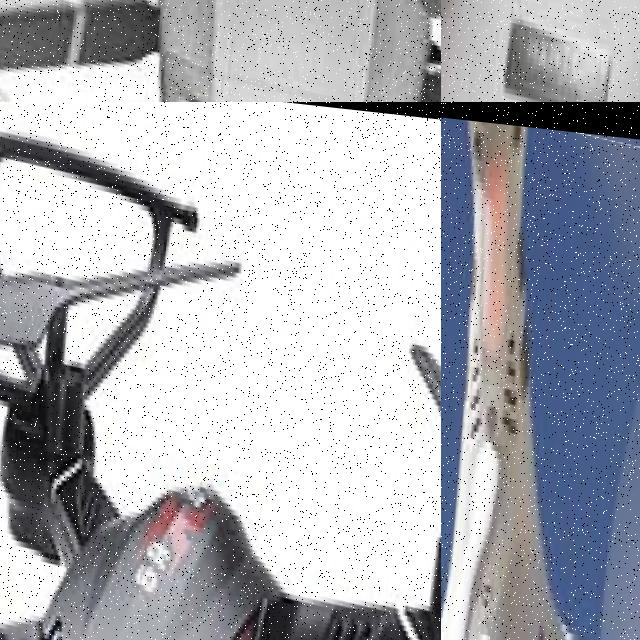drone: (0, 102, 441, 640), (441, 102, 640, 640), (0, 0, 441, 102), (441, 0, 640, 102)
